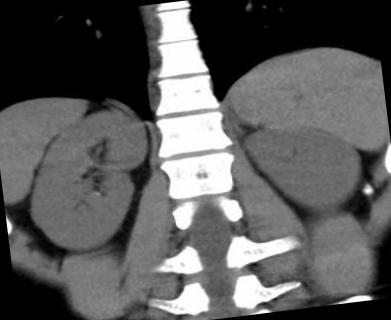Tas_Var: (92, 190, 101, 197)
